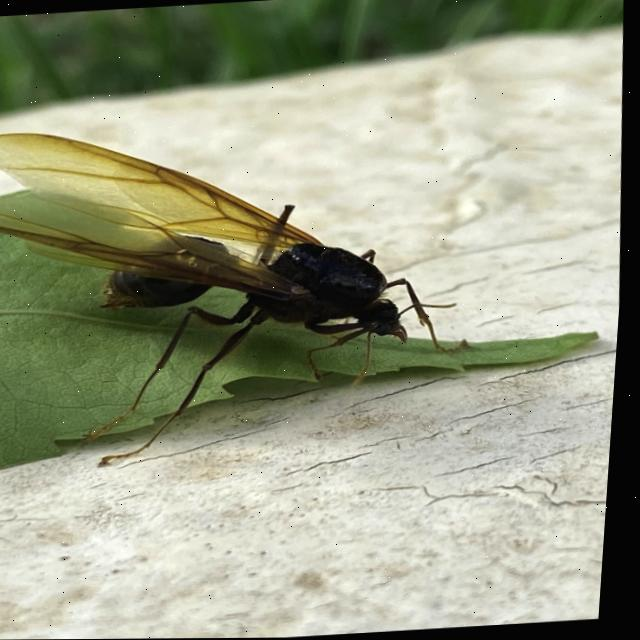Alive-Male-Alate: (0, 105, 494, 476)
